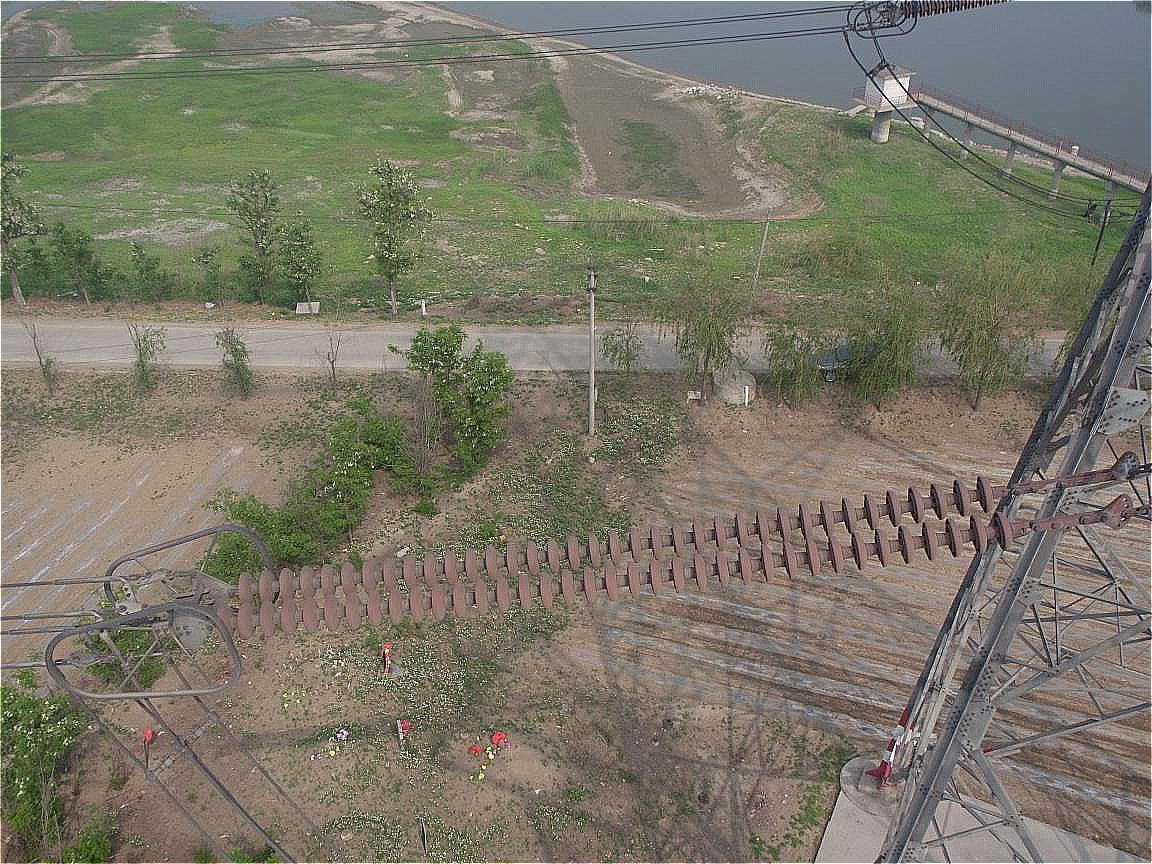insultor1: (210, 465, 1009, 649)
